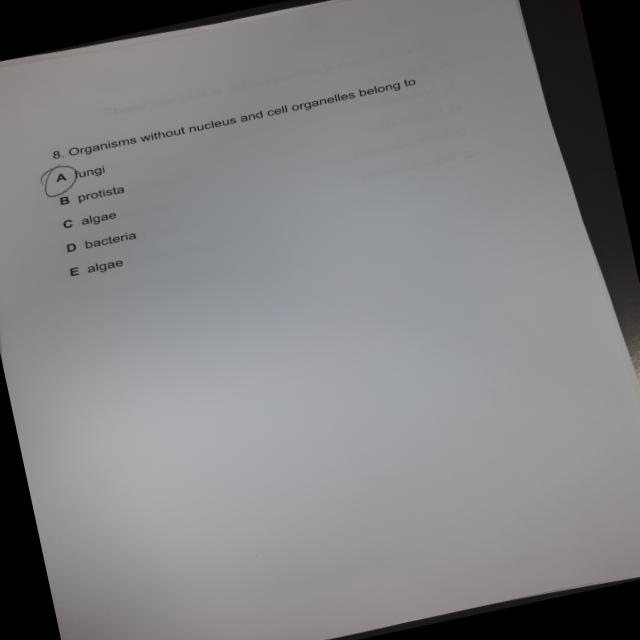A: (36, 159, 82, 198)
